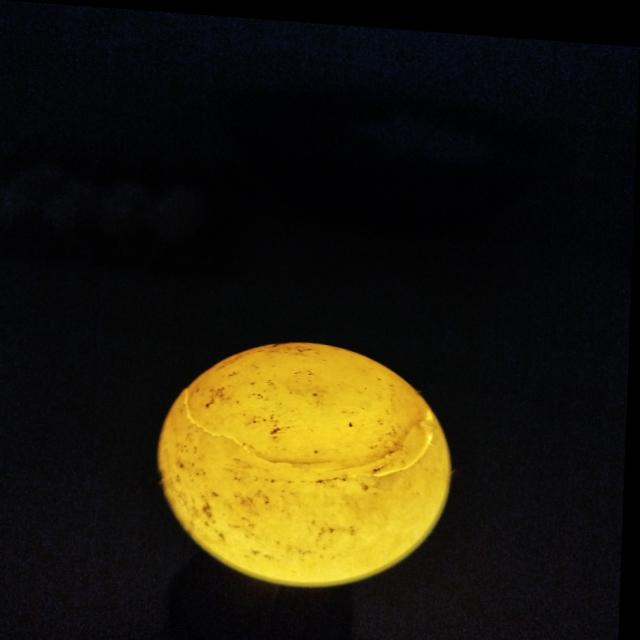Rachadura: (184, 383, 445, 476)
